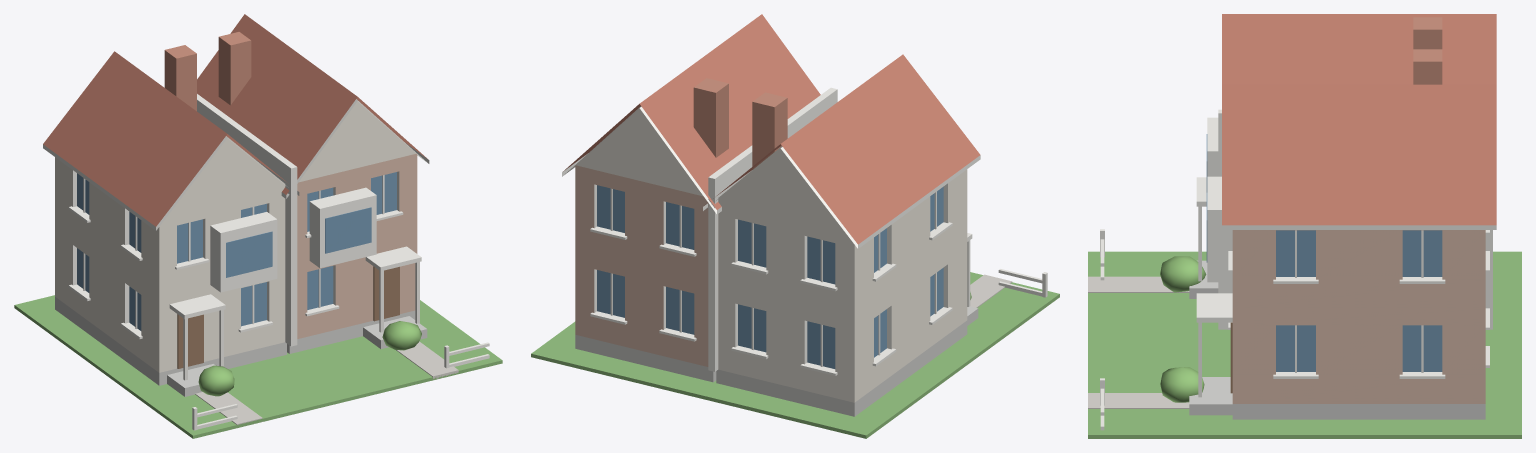
3 views of the same model, side by side, from view 1: azimuth 30°, elevation 25°; view 2: azimuth 150°, elevation 25°; view 3: azimuth 270°, elevation 25° (orthographic). The views are drawn at different scales.
Visible parts, largest first — view 1: r_1_1_f; view 2: r_1_1_f; view 3: r_1_1_f.
Boxes of the visible parts, x1,y1,x2,y2 form: r_1_1_f: [14, 14, 502, 438]; r_1_1_f: [531, 14, 1059, 438]; r_1_1_f: [1088, 14, 1521, 438].
Bounding box in the file's own units: 12 × 9.4 × 12.
